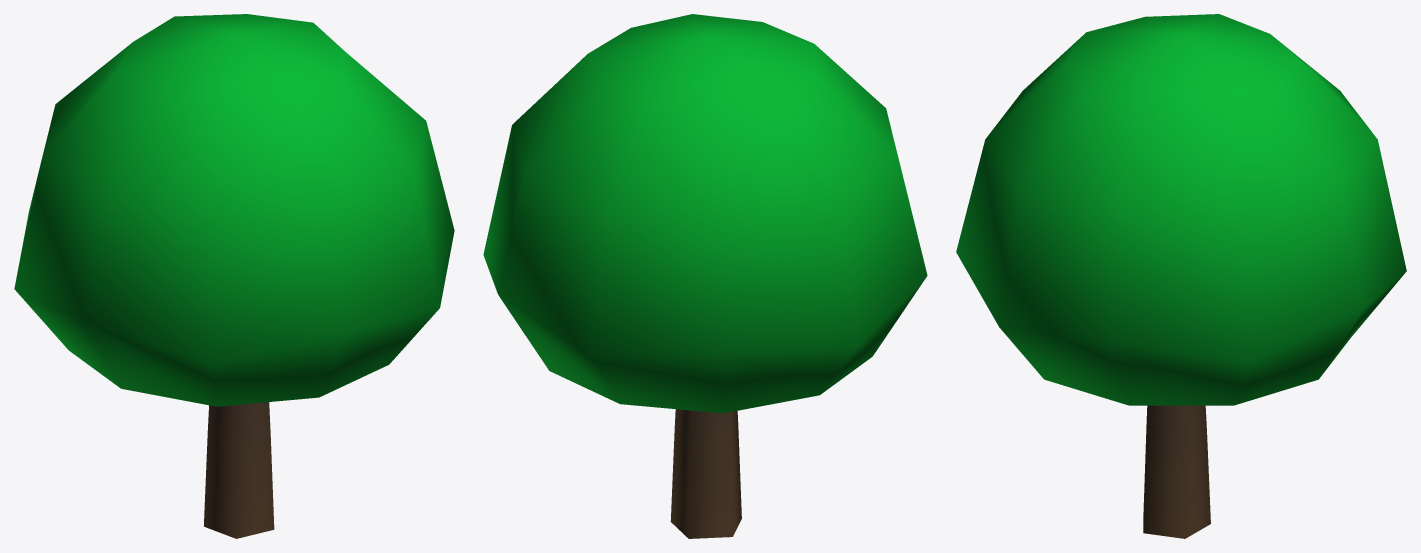
File: apple_tree.glb
3 views of the same model, side by side, from view 1: azimuth 30°, elevation 25°; view 2: azimuth 150°, elevation 25°; view 3: azimuth 270°, elevation 25° (orthographic).
Visible parts, largest first — view 1: apple_tree; view 2: apple_tree; view 3: apple_tree.
Boxes of the visible parts, x1,y1,x2,y2 form: apple_tree: (14,14,454,538); apple_tree: (483,14,927,538); apple_tree: (956,14,1406,538).
Bounding box in the file's own units: 5.28 × 6.63 × 5.55.
